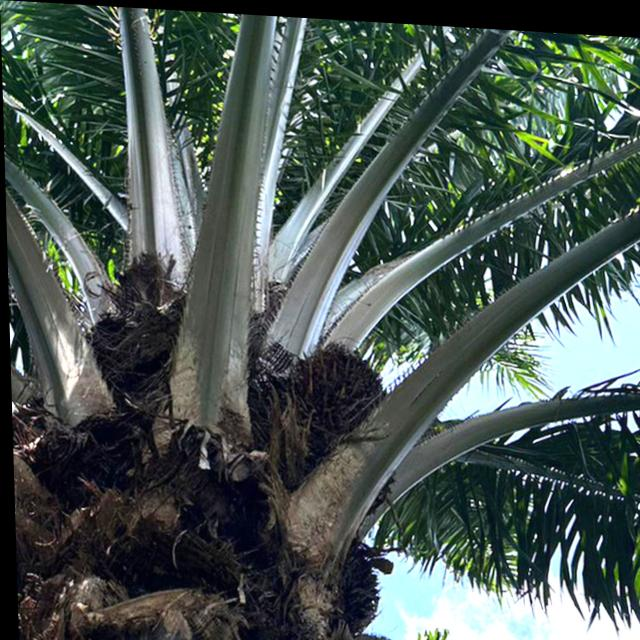ripe: (282, 325, 393, 452)
